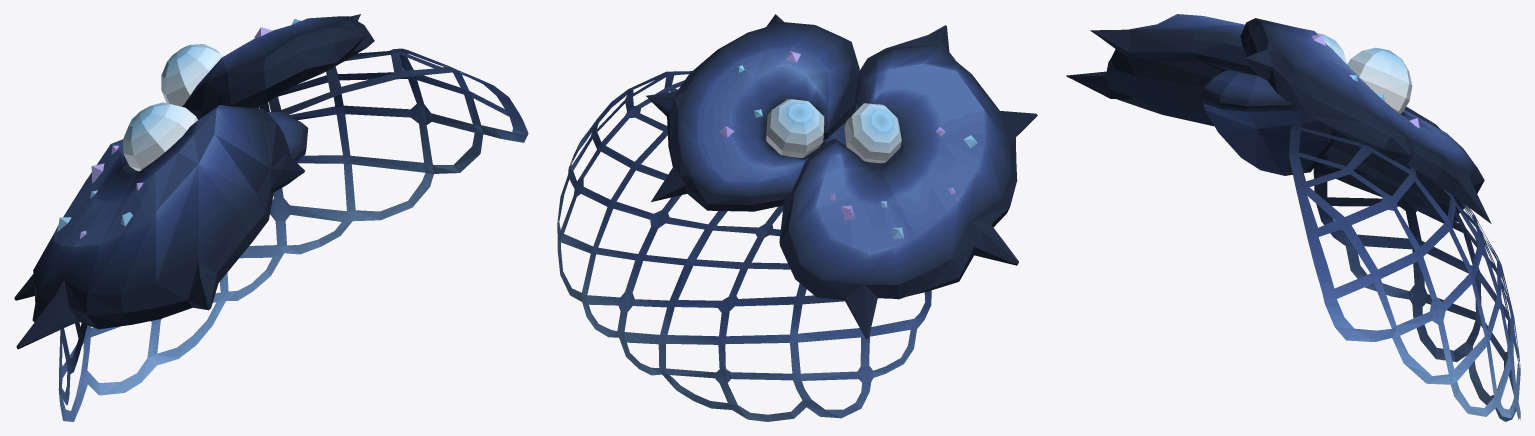
The model's file is CharSkyKid_Hat_Fascinator.glb.
The picture shows the model from 3 angles, left to right: view 1: azimuth 30°, elevation 25°; view 2: azimuth 150°, elevation 25°; view 3: azimuth 270°, elevation 25°; orthographic projection. The views are drawn at different scales.
Visible parts, largest first — view 1: CharSkyKid_Hat_Fascinator; view 2: CharSkyKid_Hat_Fascinator; view 3: CharSkyKid_Hat_Fascinator.
Part boxes in pixels (x1=…): CharSkyKid_Hat_Fascinator: x1=14, y1=14, x2=528, y2=421; CharSkyKid_Hat_Fascinator: x1=557, y1=14, x2=1037, y2=421; CharSkyKid_Hat_Fascinator: x1=1066, y1=14, x2=1520, y2=421.
Size of the model in its own units: 3.31 by 2.47 by 2.54.
1 material, 1 textured.
